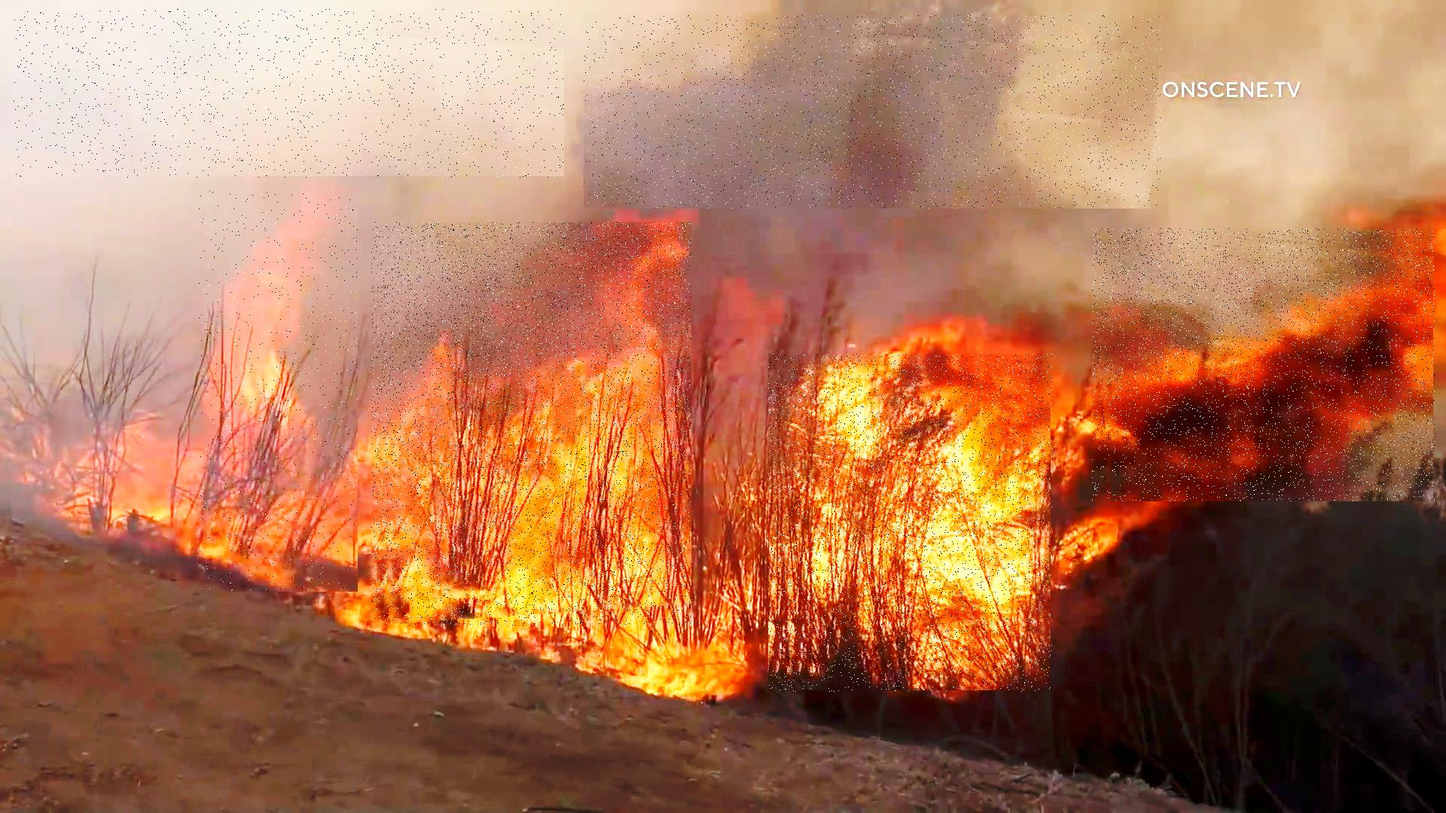fire: (371, 223, 691, 626), (769, 354, 1053, 693), (1093, 228, 1435, 502), (198, 191, 358, 592)
smoke: (584, 15, 1162, 209), (14, 10, 564, 178)
